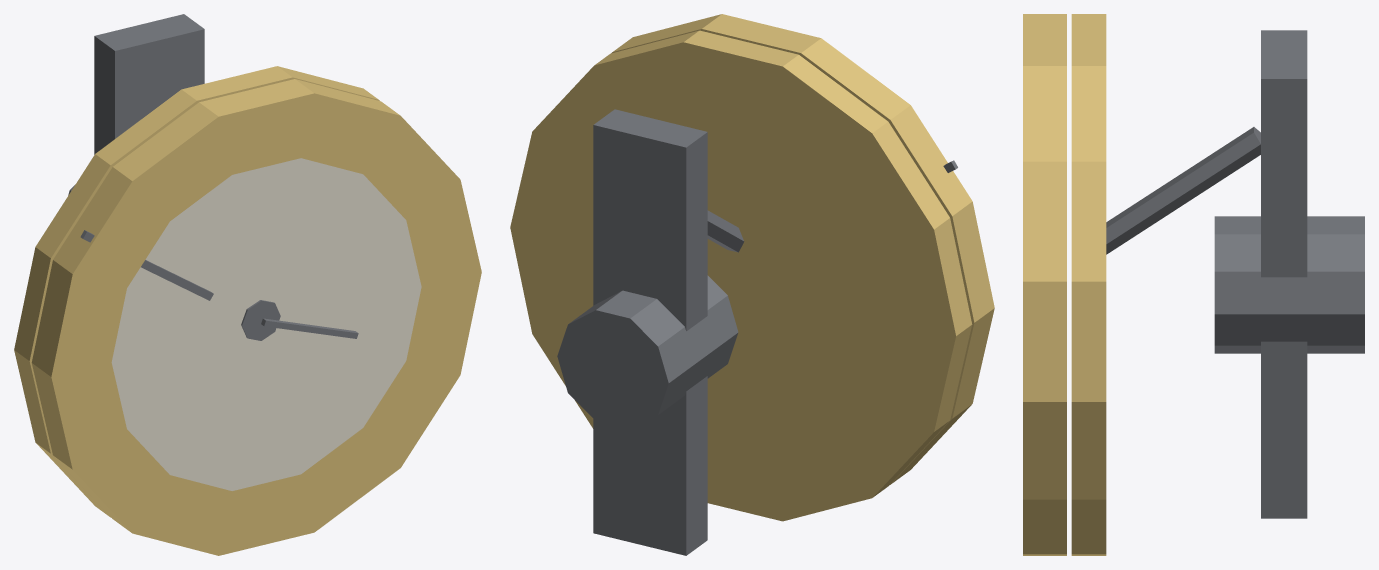
The model's file is steampunk-airship-dock-and-workshop-workshop-clock-3ecdb8e4__36092.glb.
3 views of the same model, side by side, from view 1: azimuth 30°, elevation 25°; view 2: azimuth 150°, elevation 25°; view 3: azimuth 270°, elevation 25° (orthographic). The views are drawn at different scales.
Parts seen in each view (by area): view 1: workshop-clock; view 2: workshop-clock; view 3: workshop-clock.
Boxes of the visible parts, x1=… form: workshop-clock: x1=14, y1=14, x2=481, y2=555; workshop-clock: x1=510, y1=14, x2=994, y2=555; workshop-clock: x1=1023, y1=14, x2=1364, y2=555.
Size of the model in its own units: 0.48 by 0.468 by 0.296.
